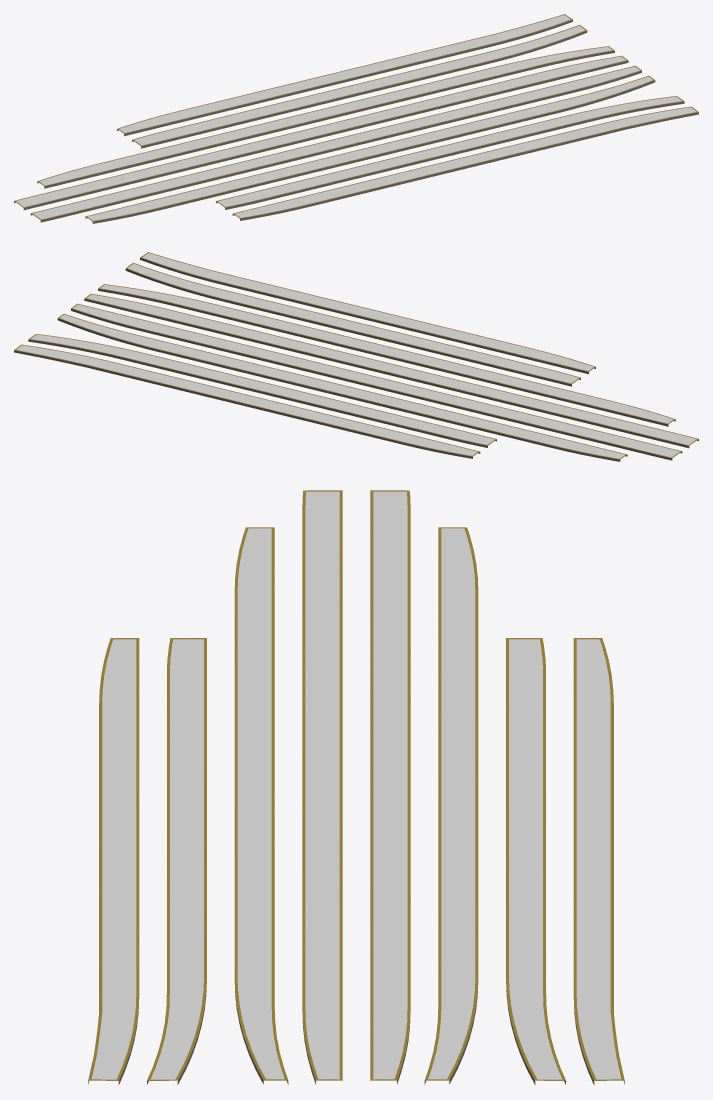
File: Level_Platforms.fbx
The picture shows the model from 3 angles, top to bottom: view 1: azimuth 30°, elevation 25°; view 2: azimuth 150°, elevation 25°; view 3: azimuth 270°, elevation 25°; orthographic projection. The views are drawn at different scales.
Visible parts, largest first — view 1: Platforms; view 2: Platforms; view 3: Platforms.
Part boxes in pixels (x1,y1,x2,y2): Platforms: (14,14,698,223); Platforms: (14,252,698,461); Platforms: (88,490,624,1085).
Bounding box in the file's own units: 40011 × 145 × 15362.
Materials: 2 (1 with a texture image).
